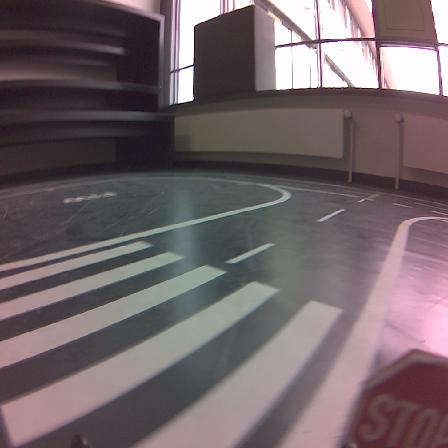STOP: (347, 350, 447, 447)
